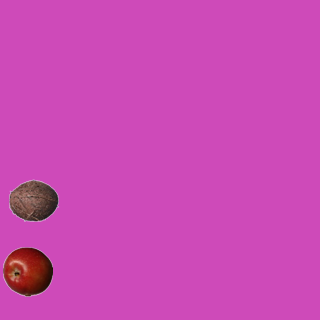Apple Braeburn: (2, 246, 52, 296)
Cocos: (8, 175, 58, 225)
